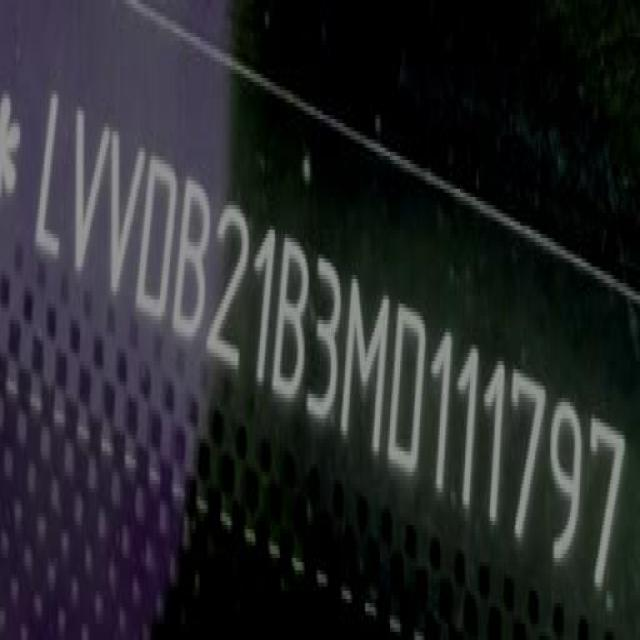1: (427, 323, 456, 508), (453, 337, 480, 522), (250, 220, 277, 398), (481, 350, 506, 536)
2: (210, 196, 250, 377)
3: (310, 249, 344, 432)
7: (587, 412, 632, 608), (508, 366, 548, 555)
9: (543, 394, 586, 576)
B: (176, 172, 215, 353), (276, 231, 314, 414)
D: (389, 295, 431, 487), (138, 147, 177, 329)
L: (35, 86, 73, 274)
M: (340, 272, 390, 466)
V: (70, 103, 113, 294), (105, 124, 148, 314)
